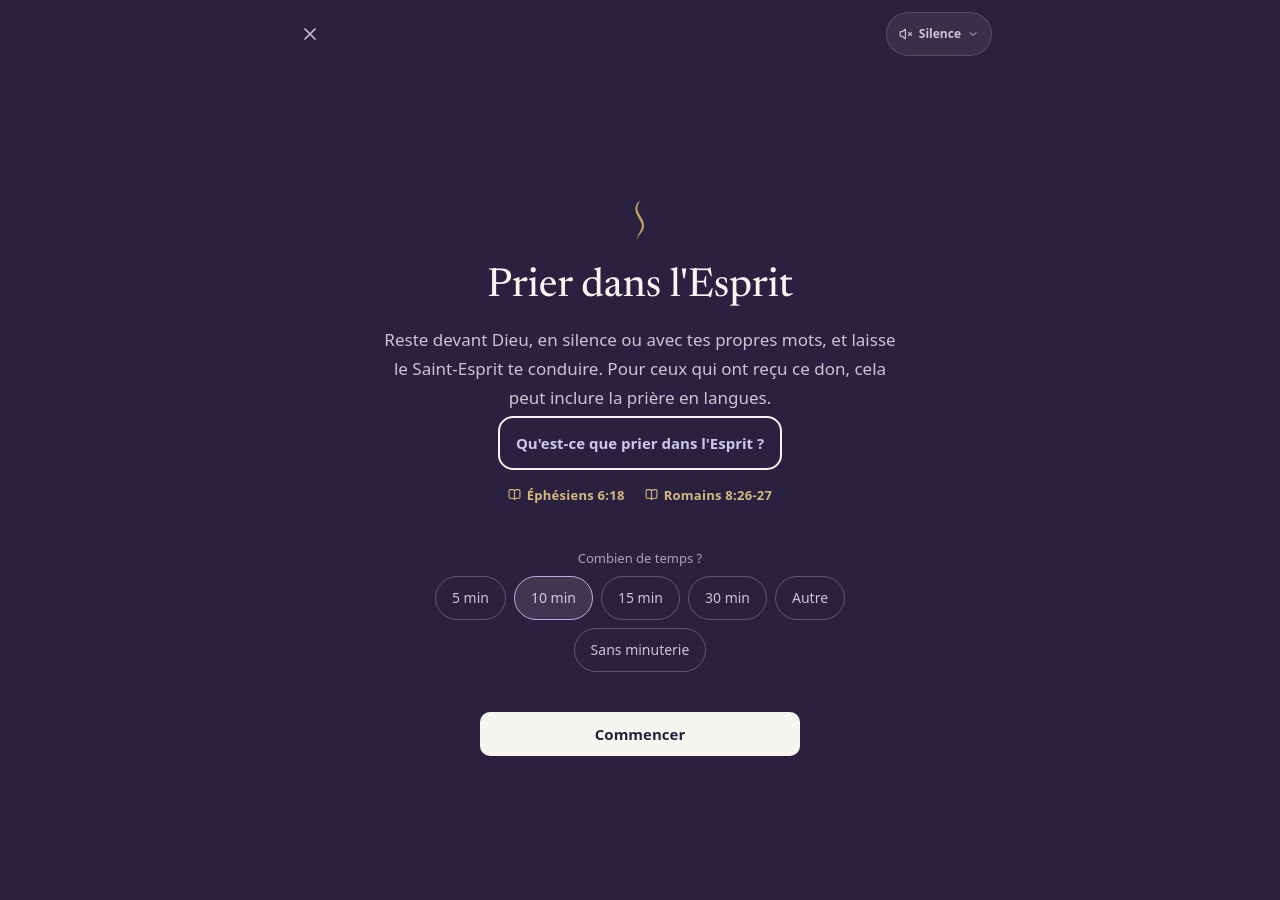
Test: PrayInTheSpirit › outside the app's pages the guide still answers, without the plan link
Click the button "Qu'est-ce que prier dans l'Esprit ?" at (640,443), box left=503, top=421, right=777, bottom=465
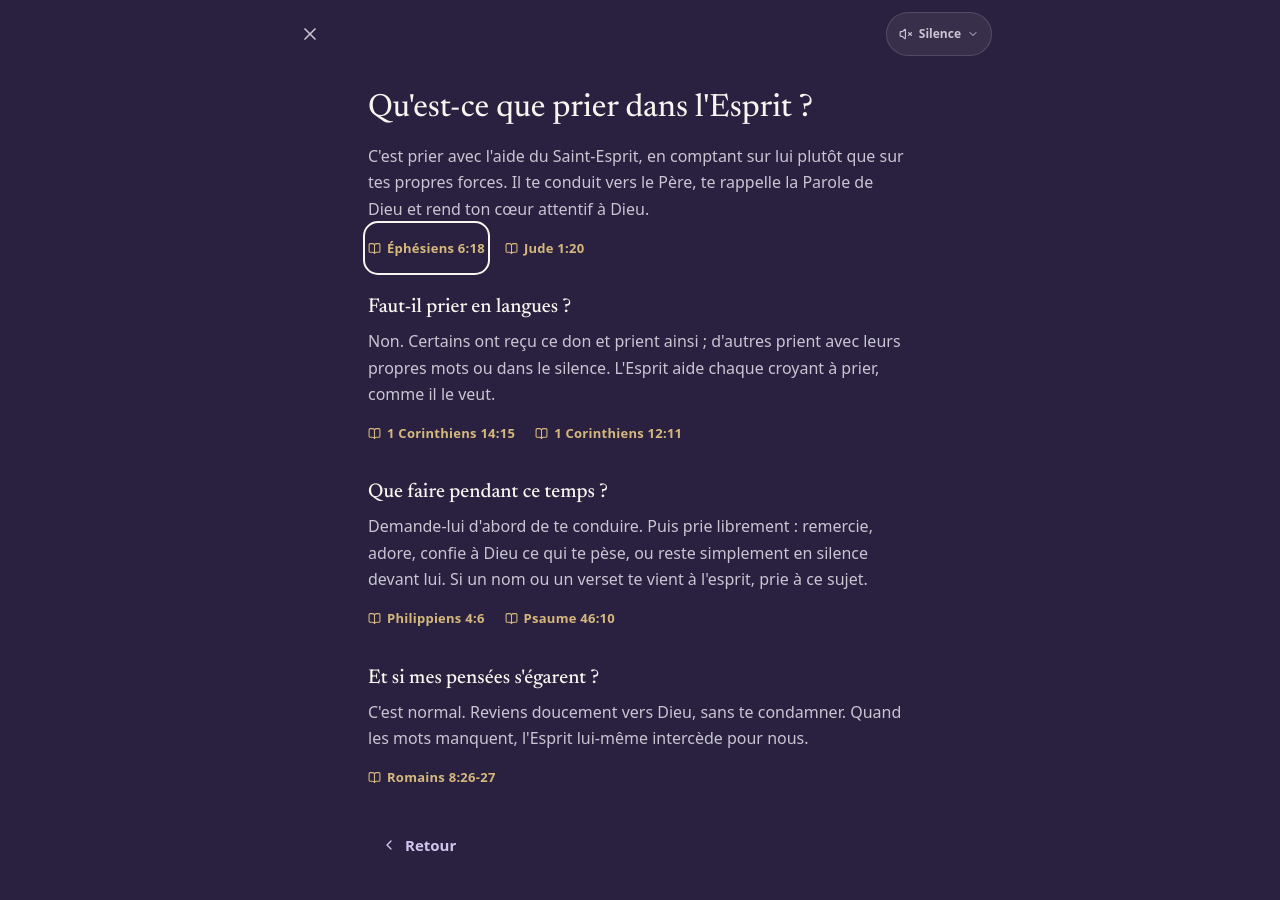
expect the text "C'est prier avec l'aide du Saint-Esprit, en comptant sur lui plutôt que sur tes propres forces. Il te conduit vers le Pè" is shown: met, box left=368, top=145, right=904, bottom=220
